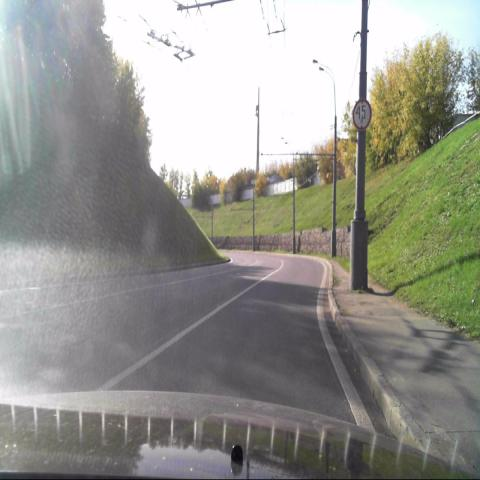3_13: (352, 95, 372, 133)
